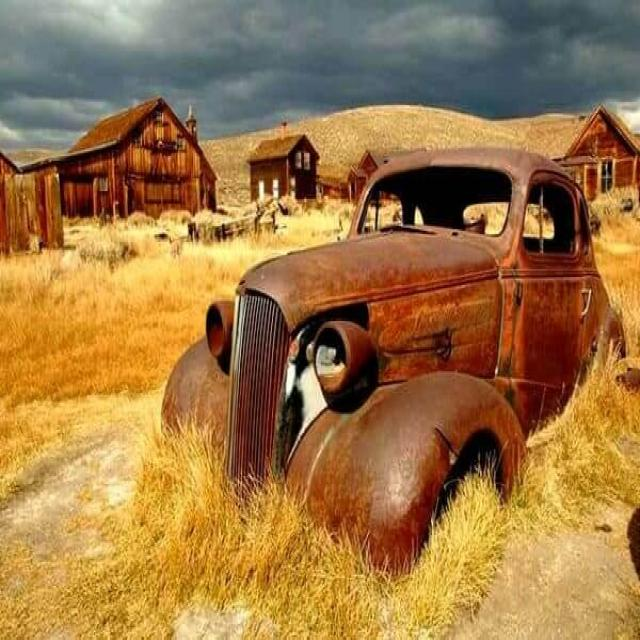Uniform Corrosion: (159, 145, 628, 582)
